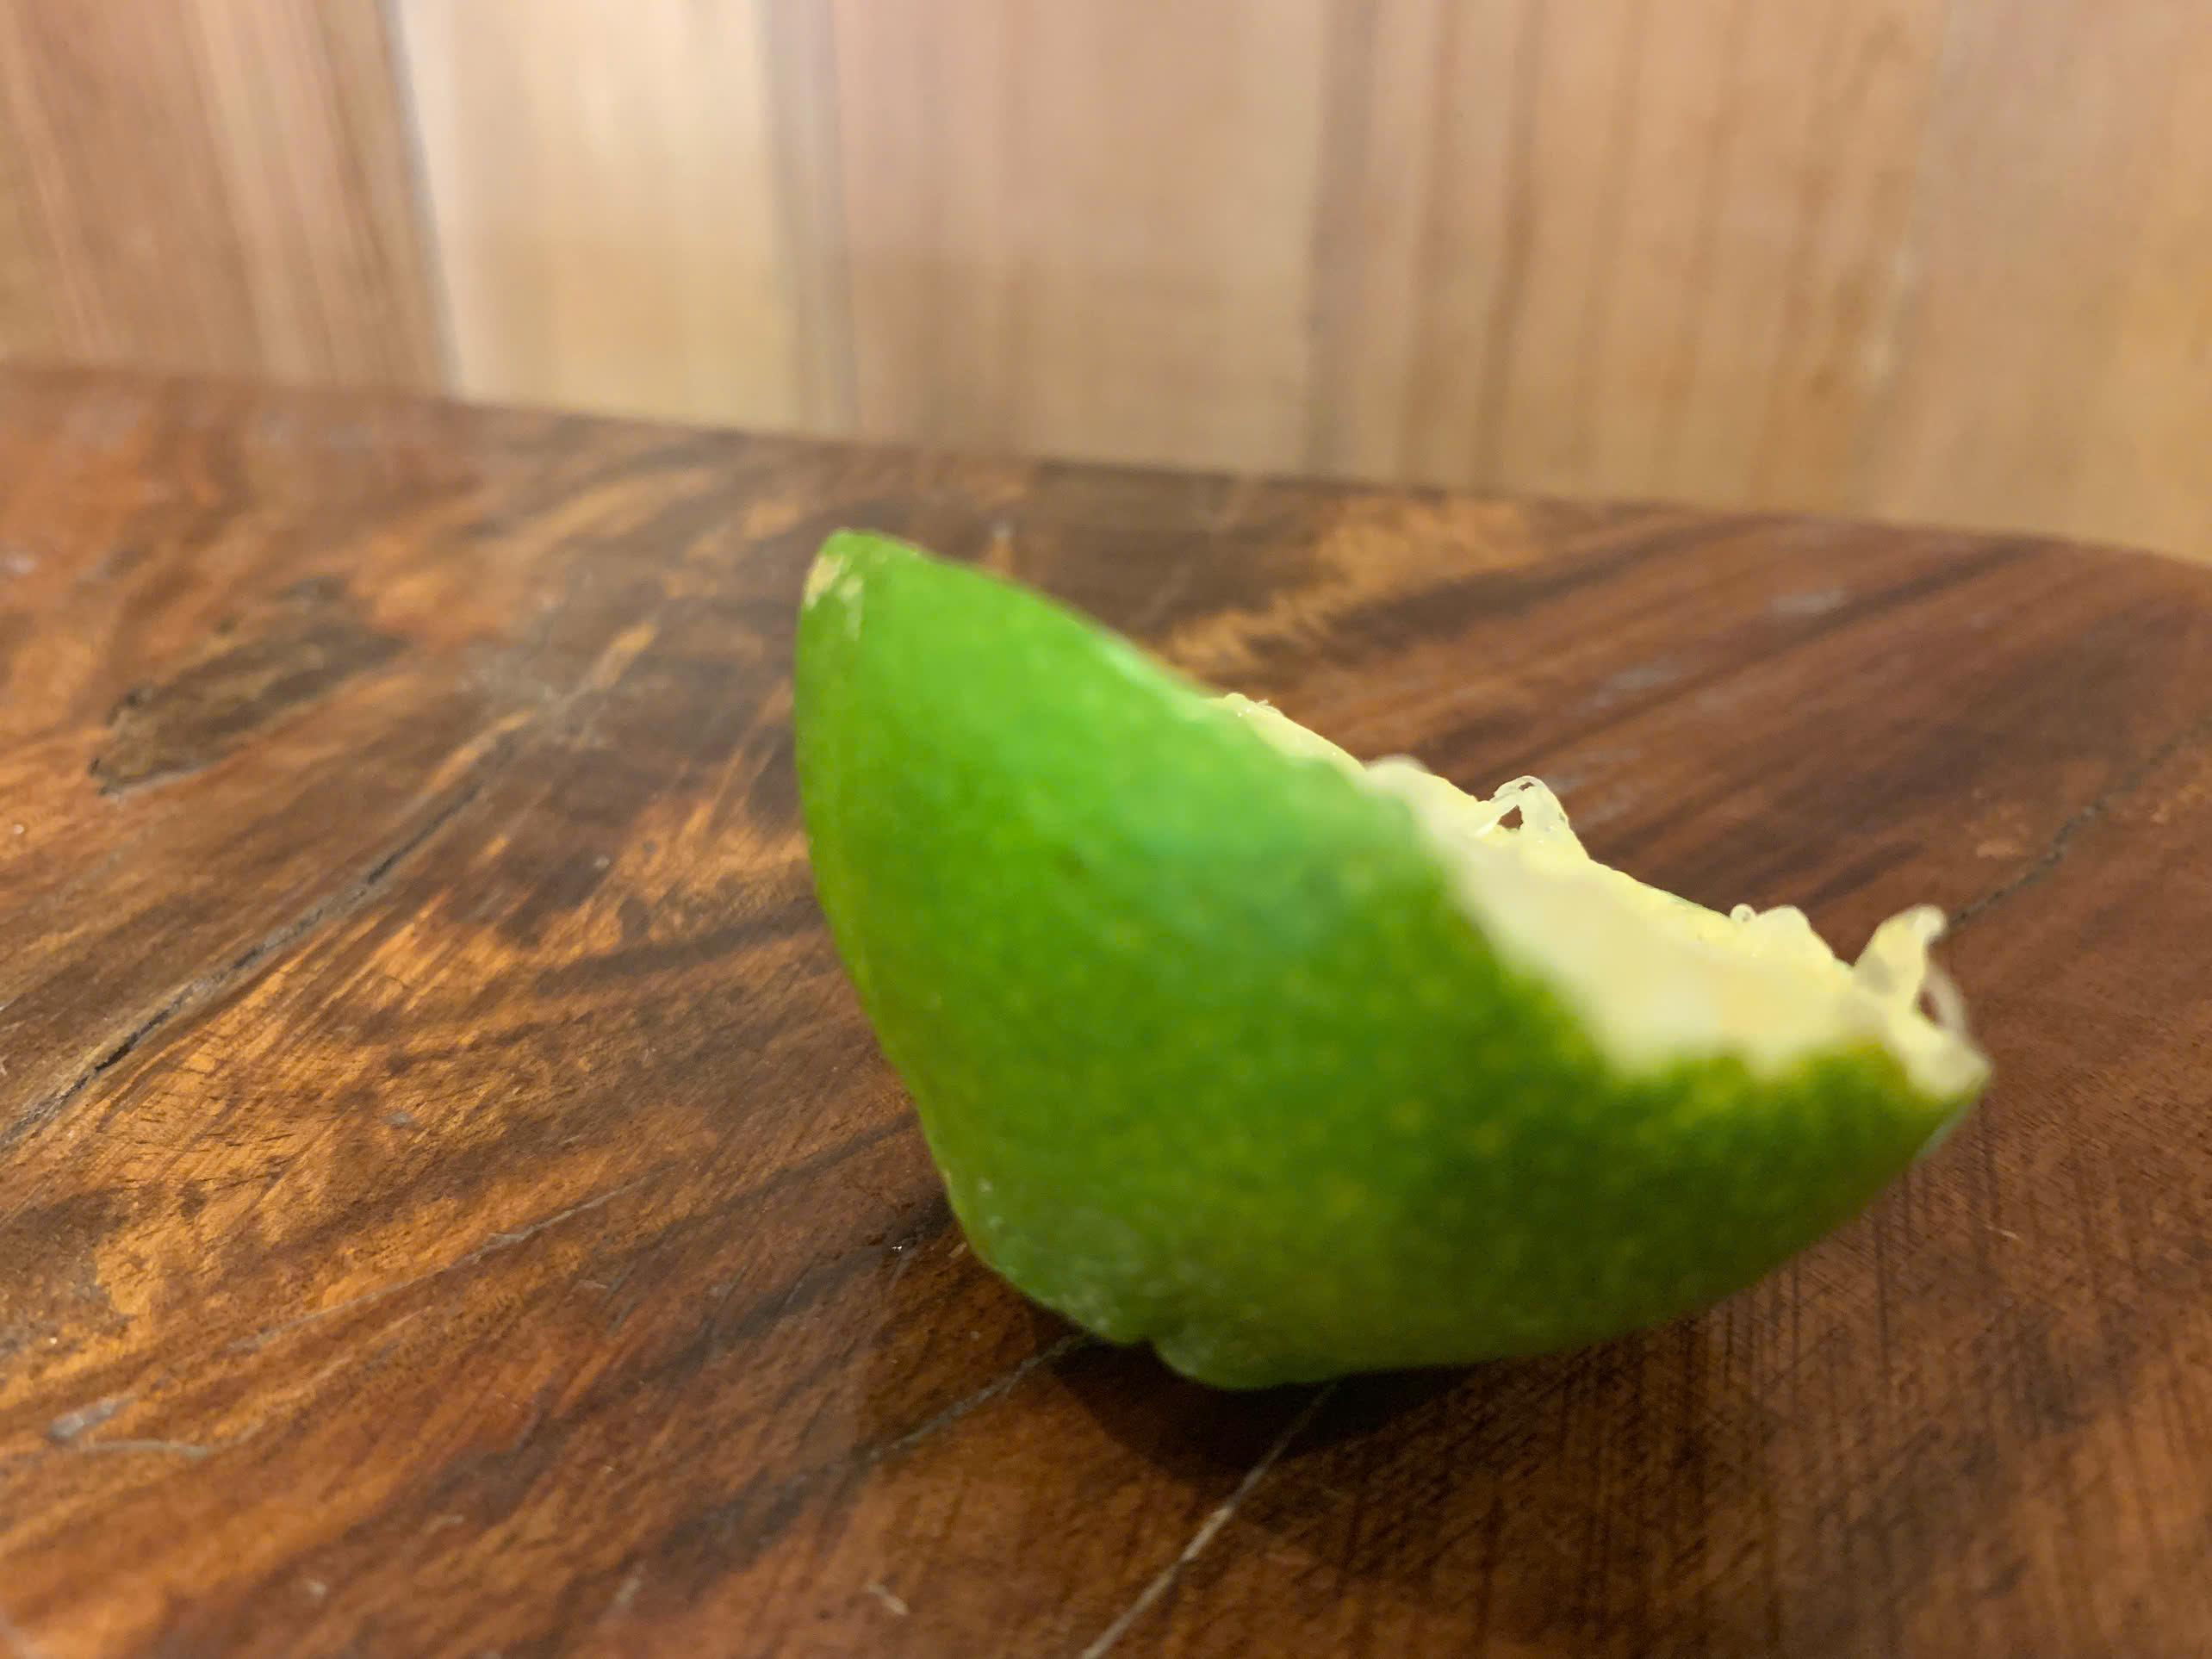Huu co: (789, 518, 2006, 1391)
